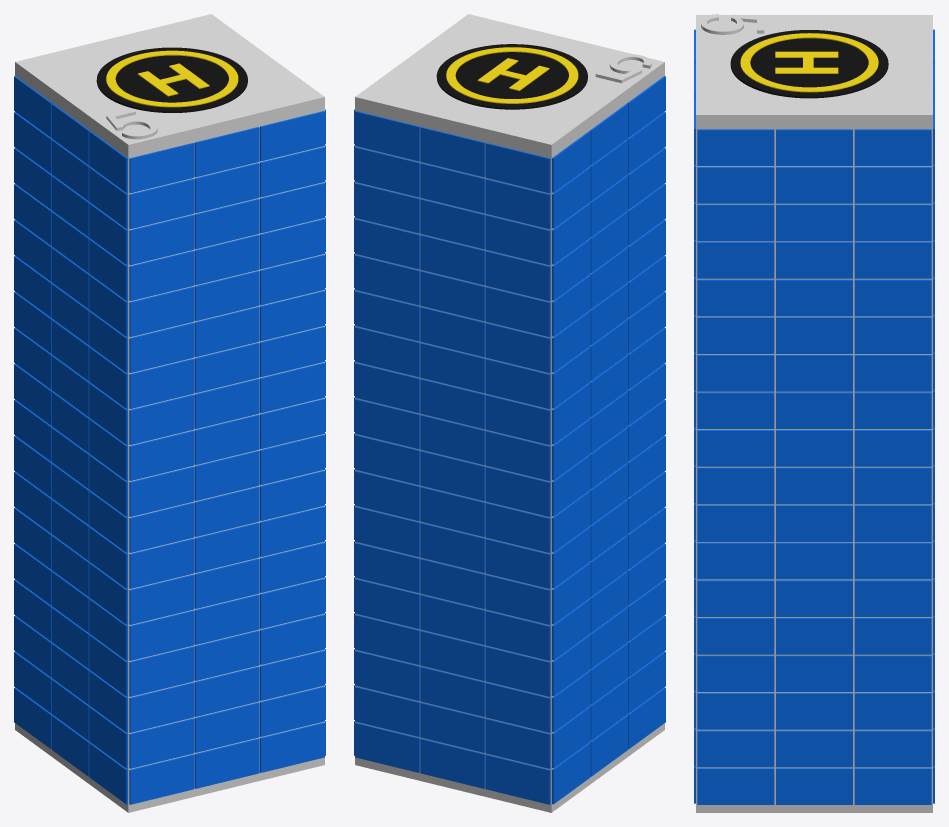
3 renders of one model, left to right at view 1: azimuth 30°, elevation 25°; view 2: azimuth 150°, elevation 25°; view 3: azimuth 270°, elevation 25°, orthographic. The views are drawn at different scales.
Parts seen in each view (by area): view 1: window, house, helipad, H, 5; view 2: window, house, helipad, H, 5; view 3: window, house, helipad, H, 5.
Part boxes in pixels (x1,y1,x2,y2): window: (14, 76, 325, 804); house: (15, 14, 324, 812); helipad: (96, 47, 247, 112); H: (106, 50, 238, 107); 5: (106, 109, 157, 139); window: (354, 76, 665, 804); house: (355, 14, 664, 812); helipad: (436, 44, 587, 109); H: (446, 47, 578, 103); 5: (595, 54, 651, 83); window: (694, 29, 934, 804); house: (696, 15, 932, 812); helipad: (730, 30, 888, 98); H: (740, 33, 878, 92); 5: (701, 14, 764, 34).
Bounding box in the file's own units: 12.2 × 39.18 × 12.2.
